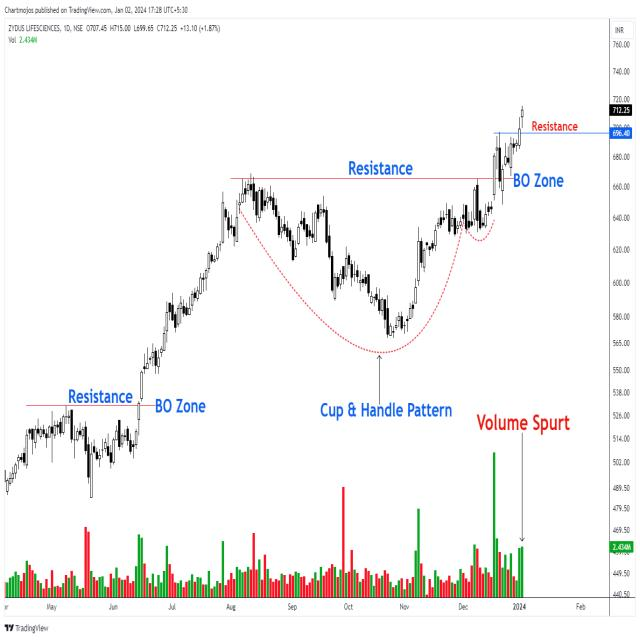Cup-and-handle: (230, 178, 509, 338)
